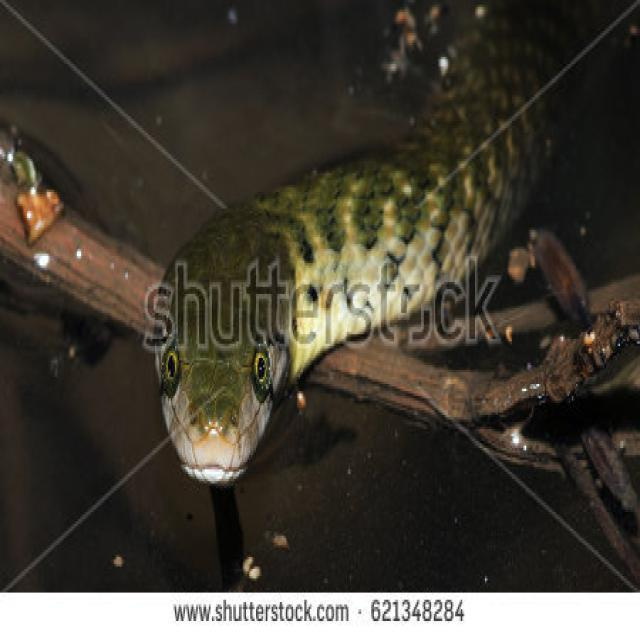Snake: (140, 0, 638, 488)
